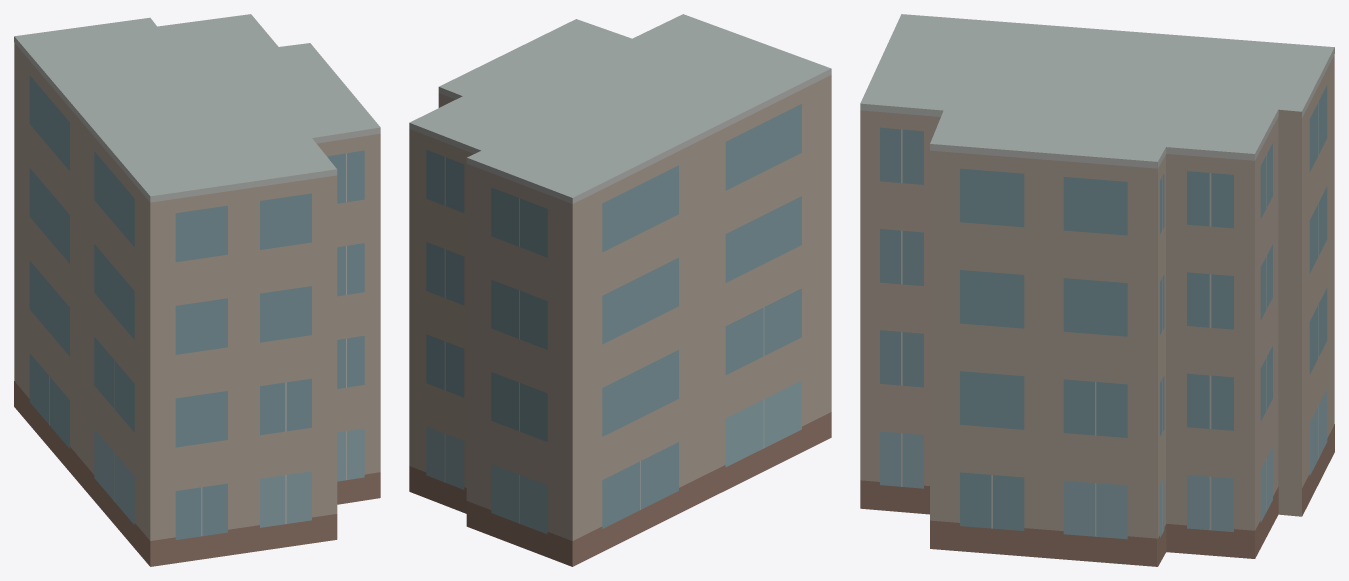
The model's file is survey-upis-32516740.glb.
The picture shows the model from 3 angles, left to right: view 1: azimuth 30°, elevation 25°; view 2: azimuth 150°, elevation 25°; view 3: azimuth 270°, elevation 25°; orthographic projection. The views are drawn at different scales.
Visible parts, largest first — view 1: survey-upis-32516740.tmp; view 2: survey-upis-32516740.tmp; view 3: survey-upis-32516740.tmp.
Boxes of the visible parts, bbox=[...] form: survey-upis-32516740.tmp: bbox=[14, 14, 380, 566]; survey-upis-32516740.tmp: bbox=[409, 14, 831, 566]; survey-upis-32516740.tmp: bbox=[860, 14, 1334, 566].
Bounding box in the file's own units: 11.48 × 14.65 × 15.57.
